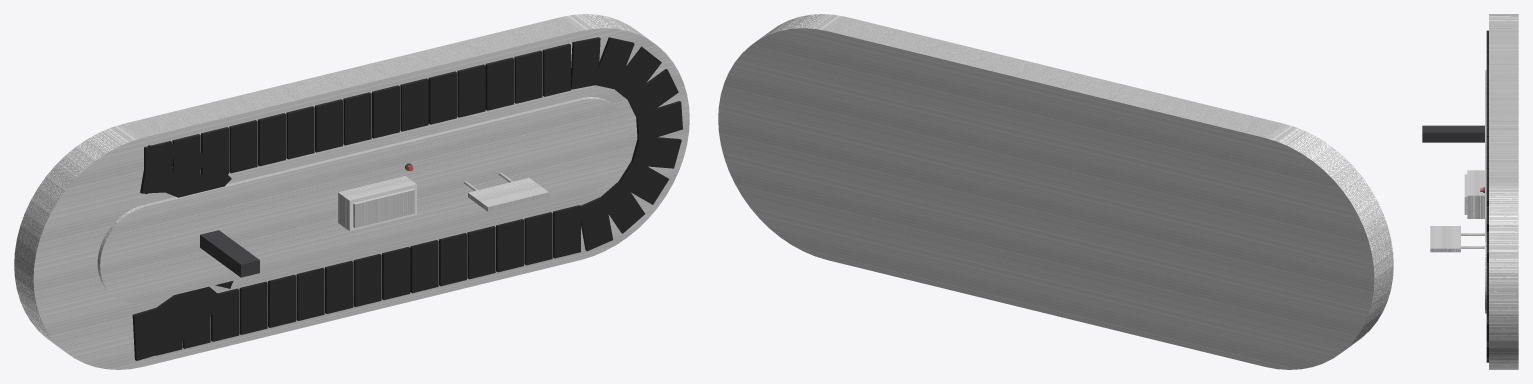
Rendered from Đảo hành lý.glb.
The picture shows the model from 3 angles, left to right: view 1: azimuth 30°, elevation 25°; view 2: azimuth 150°, elevation 25°; view 3: azimuth 270°, elevation 25°; orthographic projection. The views are drawn at different scales.
Parts seen in each view (by area): view 1: conveyor_belt, frame, center_platform, service_box, information_screen_frame, number_sign_body; view 2: frame; view 3: frame, number_sign_body, conveyor_belt, service_box, information_screen_frame, center_platform.
Part boxes in pixels (bbox=[...]): conveyor_belt: bbox=[132, 37, 682, 360]; frame: bbox=[14, 14, 689, 369]; center_platform: bbox=[97, 97, 628, 303]; service_box: bbox=[338, 176, 416, 231]; information_screen_frame: bbox=[464, 172, 549, 211]; number_sign_body: bbox=[200, 230, 259, 277]; frame: bbox=[718, 14, 1393, 369]; frame: bbox=[1489, 14, 1518, 369]; number_sign_body: bbox=[1422, 125, 1484, 142]; conveyor_belt: bbox=[1486, 30, 1488, 362]; service_box: bbox=[1464, 170, 1484, 218]; information_screen_frame: bbox=[1430, 226, 1484, 252]; center_platform: bbox=[1485, 70, 1486, 313].
Size of the model in its own units: 18 by 6 by 3.
Materials: 7 (7 with a texture image).
